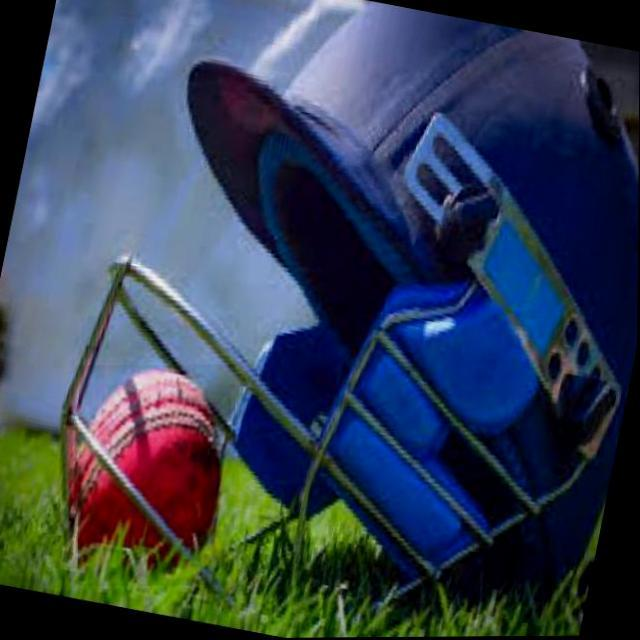-: (78, 364, 235, 586)
